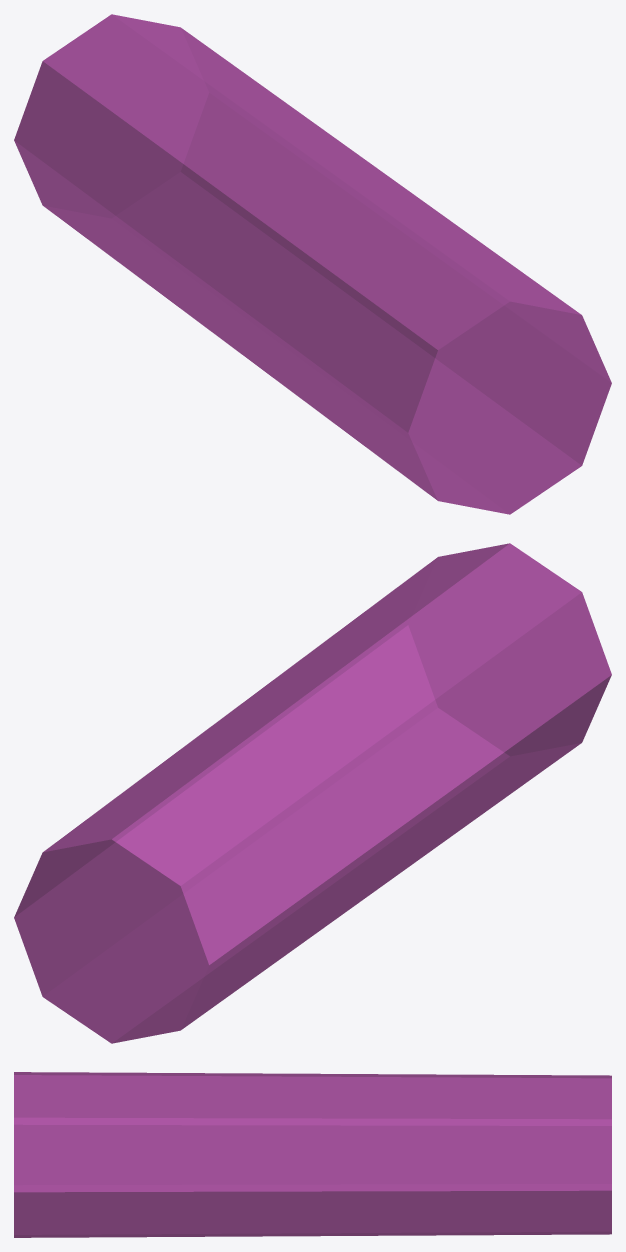
The model's file is SM_Wep_Cannon_04_Barrel_01_Collision.fbx.
3 views of the same model, one above another, from view 1: azimuth 30°, elevation 25°; view 2: azimuth 150°, elevation 25°; view 3: azimuth 270°, elevation 25° (orthographic). The views are drawn at different scales.
Parts seen in each view (by area): view 1: SM_Wep_Cannon_04_Barrel_01_Collision; view 2: SM_Wep_Cannon_04_Barrel_01_Collision; view 3: SM_Wep_Cannon_04_Barrel_01_Collision.
Part boxes in pixels (x1,y1,x2,y2): SM_Wep_Cannon_04_Barrel_01_Collision: (14,14,611,514); SM_Wep_Cannon_04_Barrel_01_Collision: (14,543,611,1043); SM_Wep_Cannon_04_Barrel_01_Collision: (14,1072,611,1237).
Size of the model in its own units: 64.7 by 64.7 by 219.
